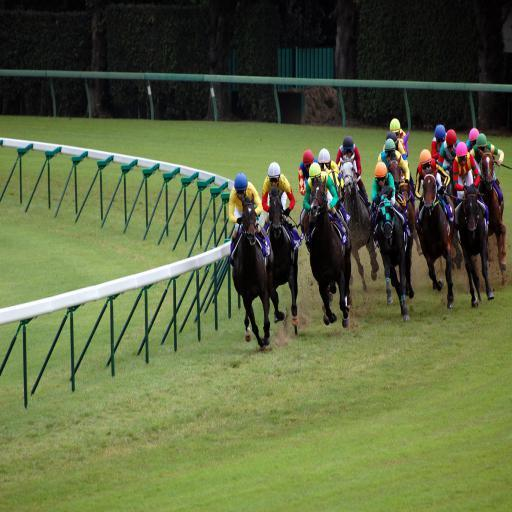horse: (230, 132, 508, 352), (263, 184, 300, 336), (234, 195, 270, 346)
